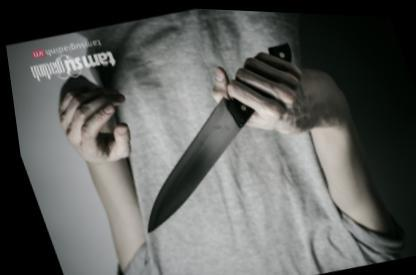knife: (84, 48, 306, 244)
